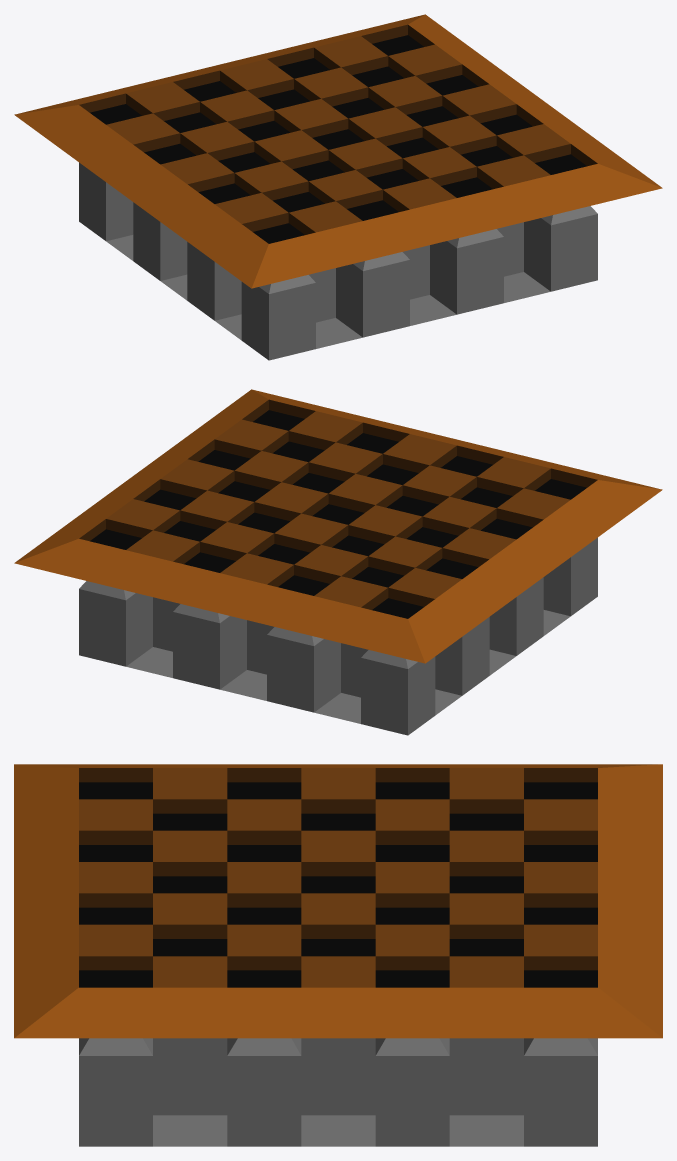
Rendered from Armadilha.fbx.
3 renders of one model, top to bottom at view 1: azimuth 30°, elevation 25°; view 2: azimuth 150°, elevation 25°; view 3: azimuth 270°, elevation 25°, orthographic. The views are drawn at different scales.
Parts seen in each view (by area): view 1: Base, Espinhos; view 2: Base, Espinhos; view 3: Base, Espinhos.
Boxes of the visible parts, x1,y1,x2,y2 form: Base: [14, 14, 662, 288]; Espinhos: [79, 162, 597, 360]; Base: [14, 389, 662, 663]; Espinhos: [79, 537, 597, 735]; Base: [14, 764, 662, 1038]; Espinhos: [79, 1038, 597, 1146].
Bounding box in the file's own units: 500 × 500 × 135.
